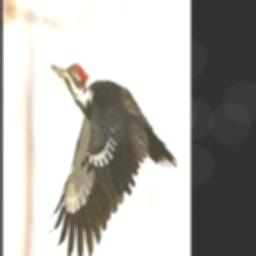Woodpecker: (48, 62, 177, 256)
